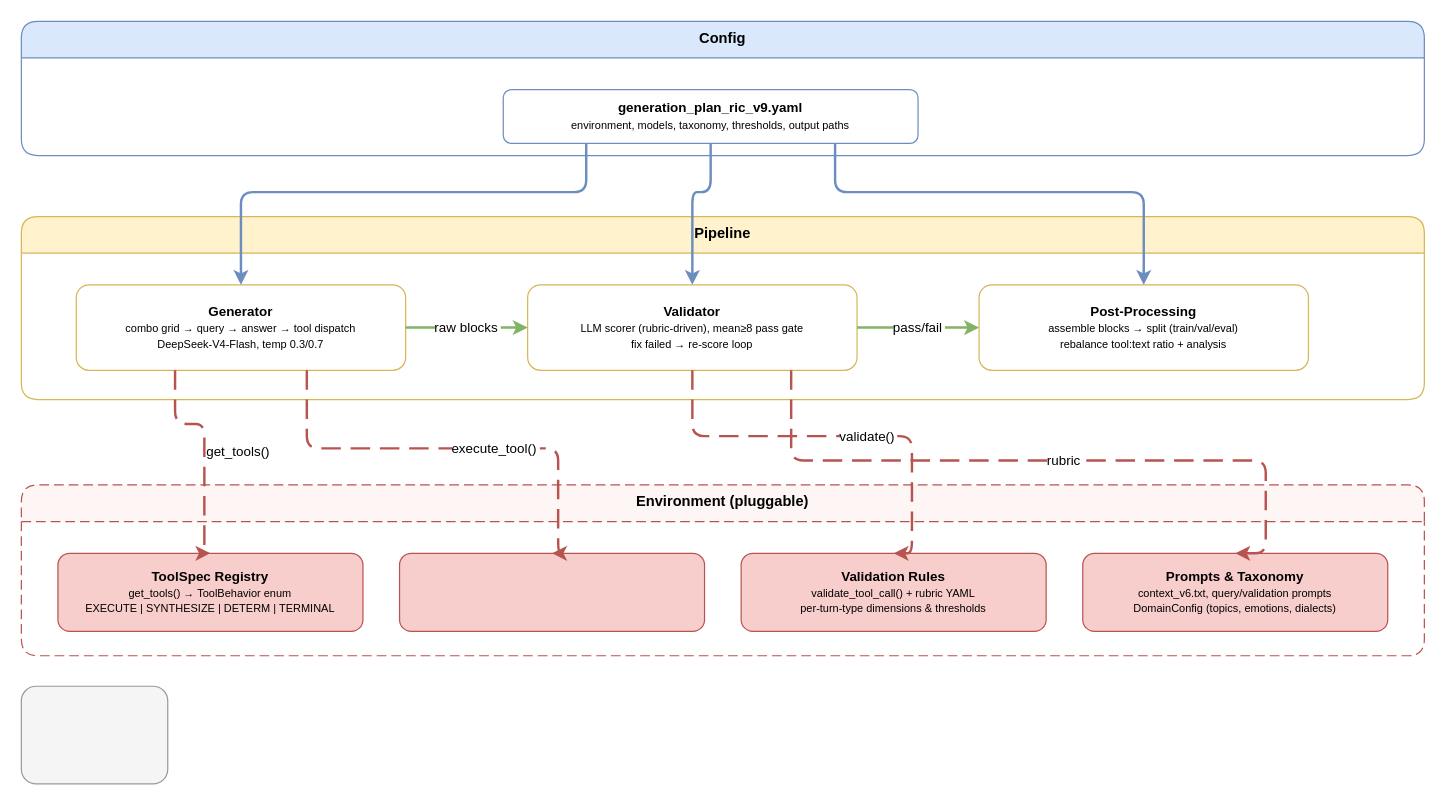
Some shapes in this 1446 by 805 pixel diagram are drawn without their labels. Each missing label, with the centre of its shape:
Executor execute_tool() → Postgres (concierge_eval) or LLM synthesis fallback: pixel 551 591
Legend ━━ config drive ━━ data flow ╌╌ env call: pixel 94 734
